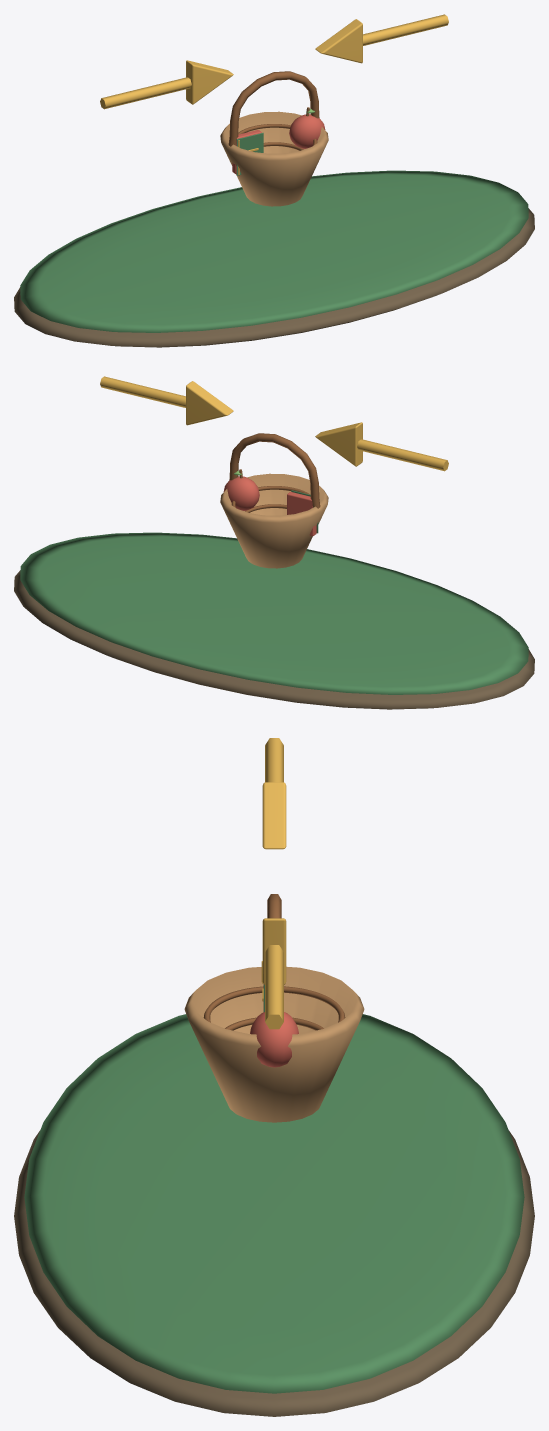
The model's file is complete-first-east-west-stuff.glb.
3 views of the same model, one above another, from view 1: azimuth 30°, elevation 25°; view 2: azimuth 150°, elevation 25°; view 3: azimuth 270°, elevation 25° (orthographic). The views are drawn at different scales.
Parts seen in each view (by area): view 1: complete-first-east-west-stuff_surface_01, complete-first-east-west-stuff_surface_00, complete-first-east-west-stuff_surface_03, complete-first-east-west-stuff_surface_02, complete-first-east-west-stuff_surface_04, complete-first-east-west-stuff_surface_05; view 2: complete-first-east-west-stuff_surface_01, complete-first-east-west-stuff_surface_00, complete-first-east-west-stuff_surface_03, complete-first-east-west-stuff_surface_02, complete-first-east-west-stuff_surface_04, complete-first-east-west-stuff_surface_05; view 3: complete-first-east-west-stuff_surface_01, complete-first-east-west-stuff_surface_03, complete-first-east-west-stuff_surface_00, complete-first-east-west-stuff_surface_02, complete-first-east-west-stuff_surface_04, complete-first-east-west-stuff_surface_05.
Boxes of the visible parts, x1,y1,x2,y2 form: complete-first-east-west-stuff_surface_01: (20,132,528,332); complete-first-east-west-stuff_surface_00: (14,208,534,347); complete-first-east-west-stuff_surface_03: (220,111,328,206); complete-first-east-west-stuff_surface_02: (100,14,448,174); complete-first-east-west-stuff_surface_04: (228,71,319,150); complete-first-east-west-stuff_surface_05: (232,114,325,174); complete-first-east-west-stuff_surface_01: (20,490,528,694); complete-first-east-west-stuff_surface_00: (14,570,534,709); complete-first-east-west-stuff_surface_03: (220,473,328,568); complete-first-east-west-stuff_surface_02: (100,376,448,471); complete-first-east-west-stuff_surface_04: (229,433,320,512); complete-first-east-west-stuff_surface_05: (223,476,316,536); complete-first-east-west-stuff_surface_01: (24,984,524,1393); complete-first-east-west-stuff_surface_03: (184,966,364,1122); complete-first-east-west-stuff_surface_00: (14,1131,534,1416); complete-first-east-west-stuff_surface_02: (261,738,286,1029); complete-first-east-west-stuff_surface_04: (203,894,345,1030); complete-first-east-west-stuff_surface_05: (250,1012,298,1067).
Size of the model in its own units: 4.56 by 2.07 by 2.5.
